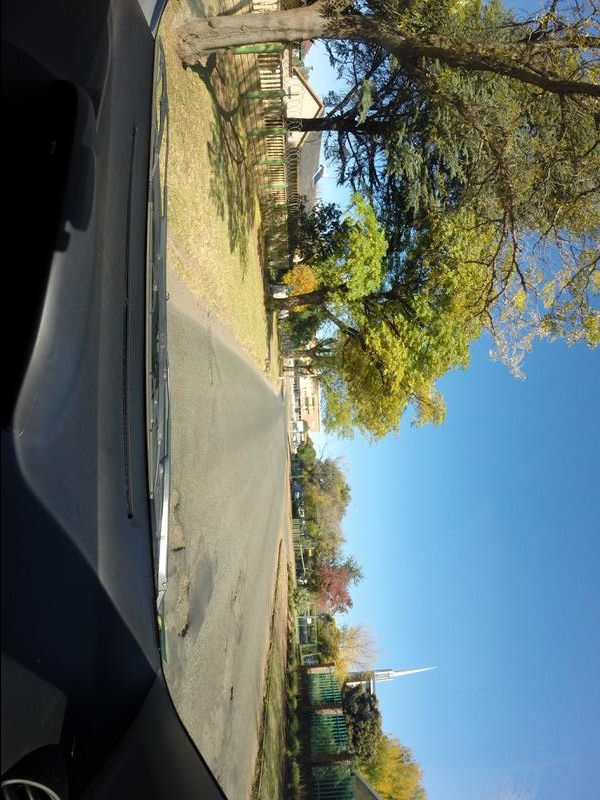pothole: (172, 574, 189, 661), (168, 485, 182, 559), (204, 323, 212, 396), (229, 683, 234, 706), (231, 592, 239, 604), (236, 573, 243, 584), (225, 640, 227, 662)
